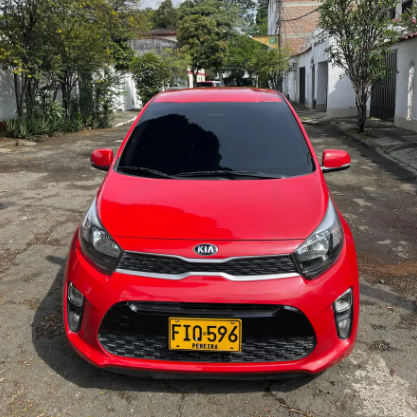placa: (169, 316, 241, 352)
